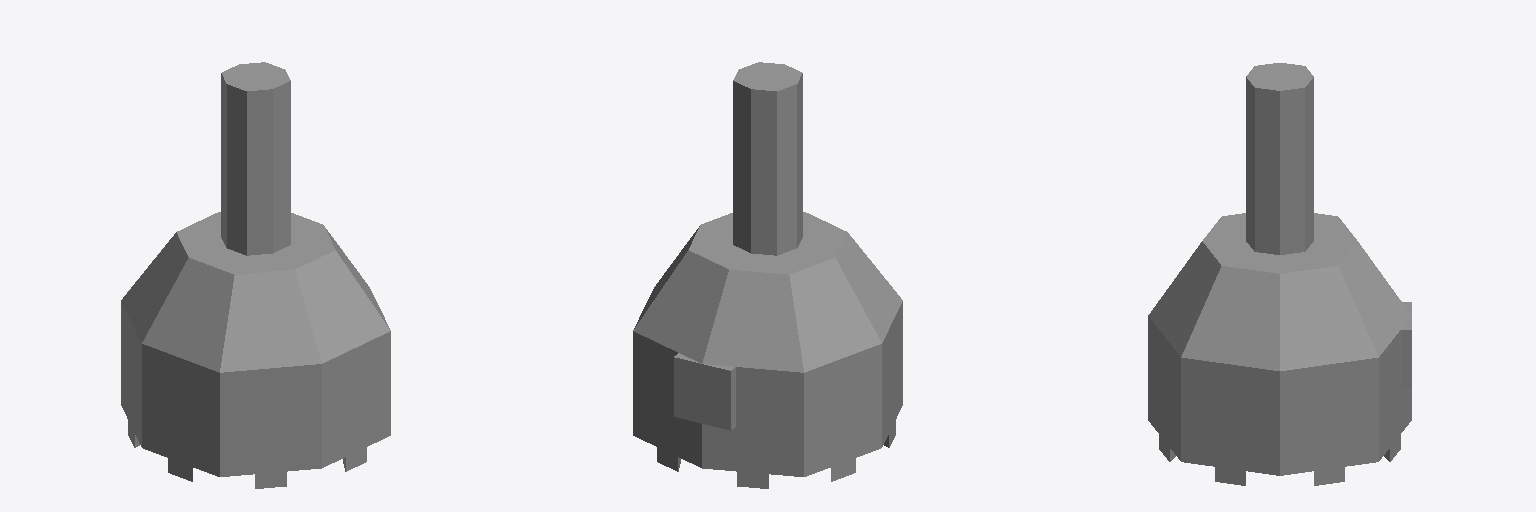
The model's file is pot_still.obj.
3 renders of one model, left to right at view 1: azimuth 30°, elevation 25°; view 2: azimuth 150°, elevation 25°; view 3: azimuth 270°, elevation 25°, orthographic.
Visible parts, largest first — view 1: pot_still_mesh; view 2: pot_still_mesh; view 3: pot_still_mesh.
Part boxes in pixels (bbox=[...]): pot_still_mesh: bbox=[121, 62, 390, 488]; pot_still_mesh: bbox=[633, 62, 902, 488]; pot_still_mesh: bbox=[1148, 63, 1411, 485].
Size of the model in its own units: 1.99 by 2.99 by 1.99.